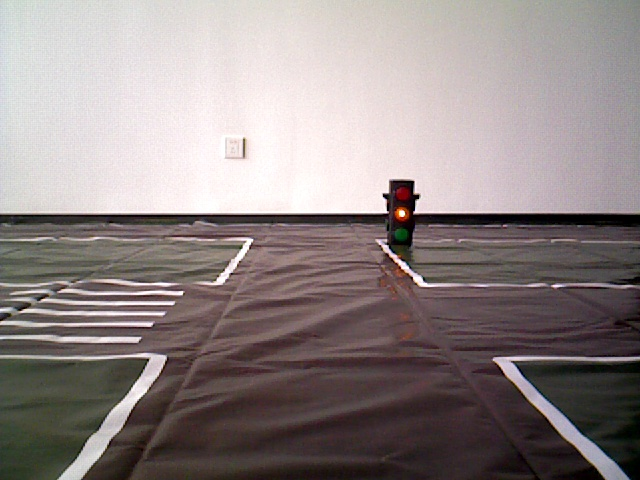yellow: (383, 176, 419, 251)
